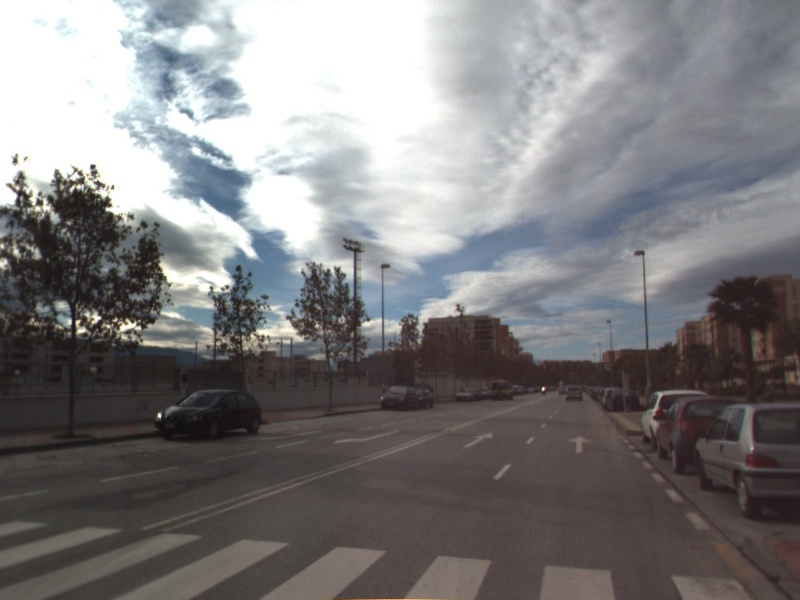STRAIGHT: (461, 430, 495, 450), (566, 433, 593, 455)
